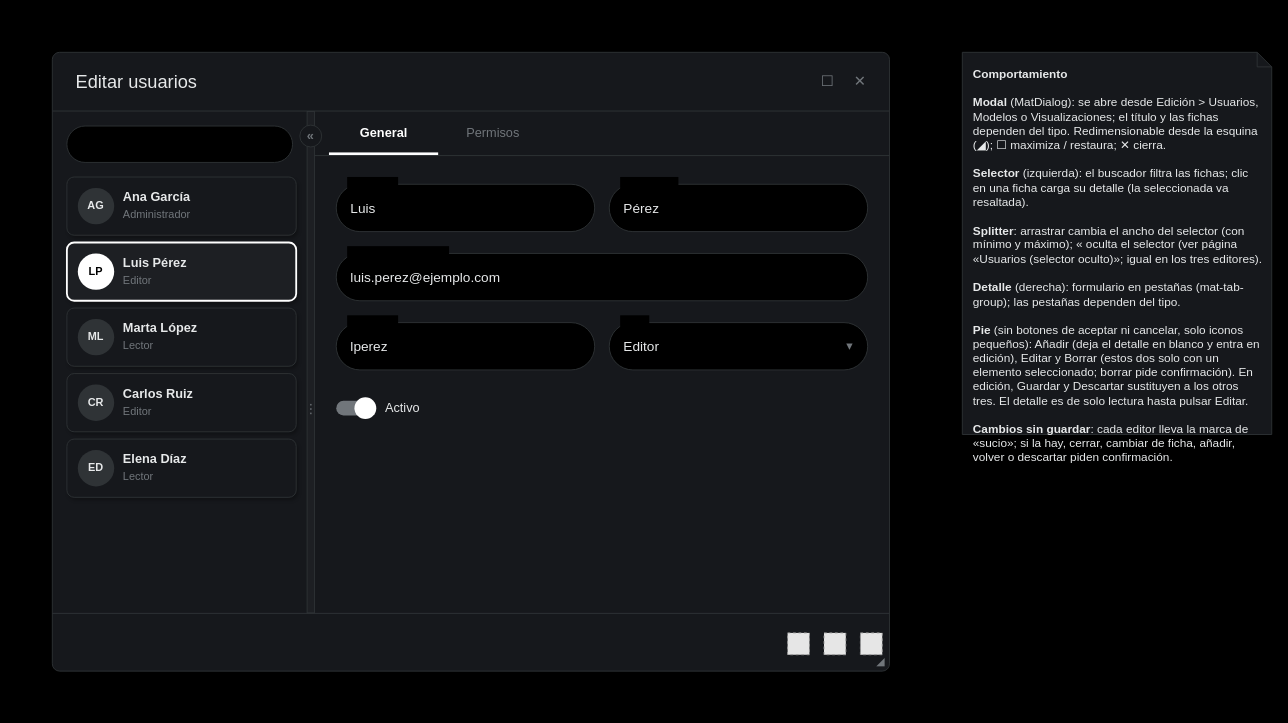
The diagram is 1288 pixels wide and 723 high, and some of its shapes have lost their labels. Grey dashed boxes stand in for pictures. Each missing label, with the centre of its shape:
"Apellidos" goes at point (649, 184).
"Correo electrónico" goes at point (398, 253).
"Nombre" goes at point (372, 184).
"Rol" goes at point (634, 322).
"Usuario" goes at point (372, 322).
"⌕ Buscar..." goes at point (179, 143).
